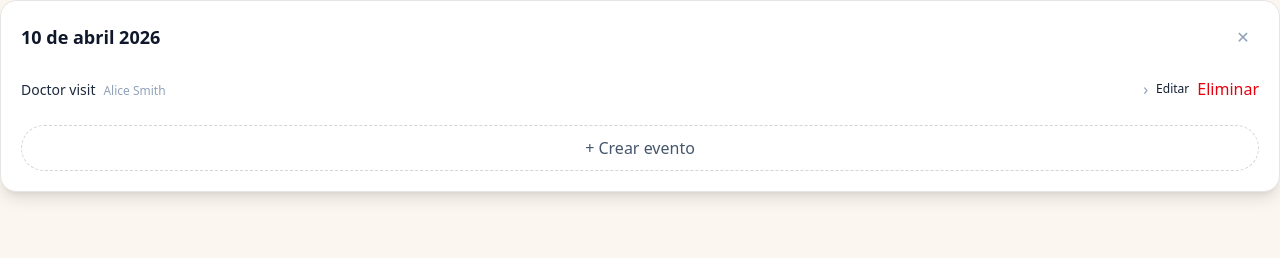
DayDetailPanel › collapses event detail when toggle button is clicked again
The image size is (1280, 258).
Click the button named "ver detalle".
click(1146, 89)  # box [1143, 77, 1148, 101]
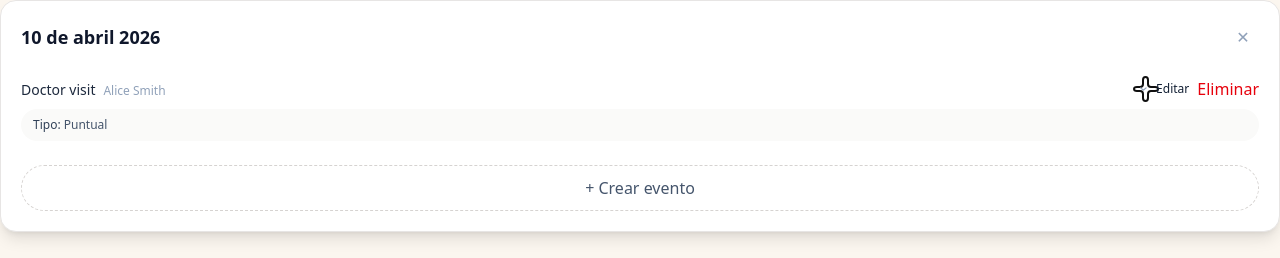
Now the text "Tipo: Puntual" is shown, box [33, 116, 107, 133]
Click the button named "ocultar detalle".
click(1146, 89)  # box [1143, 77, 1148, 101]
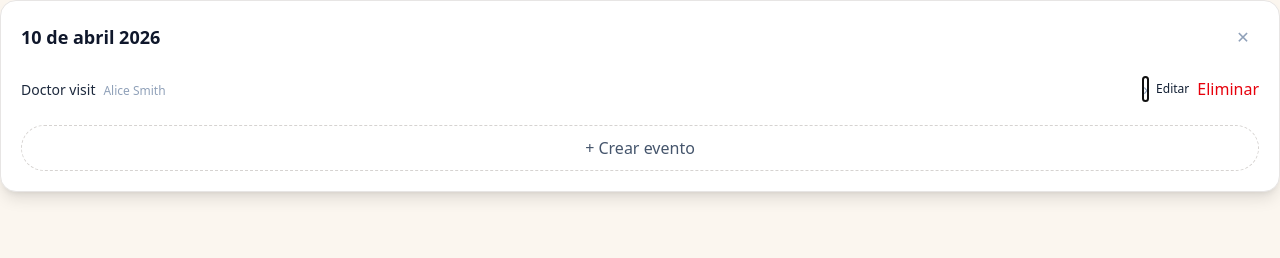
Now the text "Puntual" is gone
